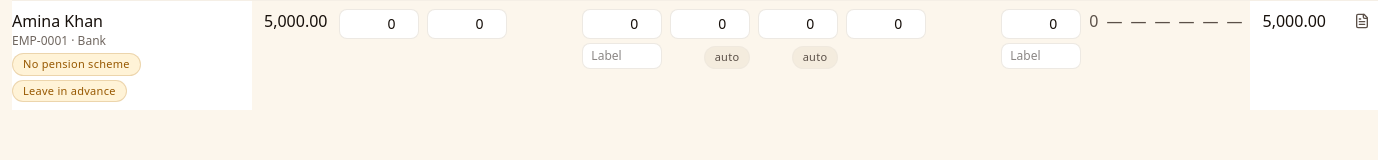
Test: PayrollLineEditor › shows the auto badge until a leave field is edited, and flag labels for the new flags
The image size is (1378, 160).
Check: the 1st text "auto" is shown, box [704,46,750,68]
Check: the text "No pension scheme" is shown, box [12,53,141,76]
Replace the text in the number field named "Half-pay days for Amina Khan" with "3": (798, 24) [758,9,838,39]
Wait 610 ms
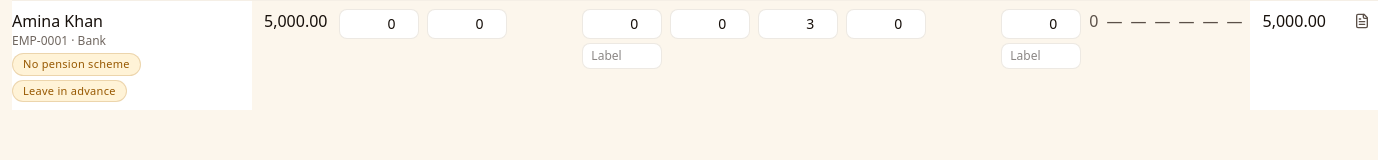
Check: the text "auto" is gone
